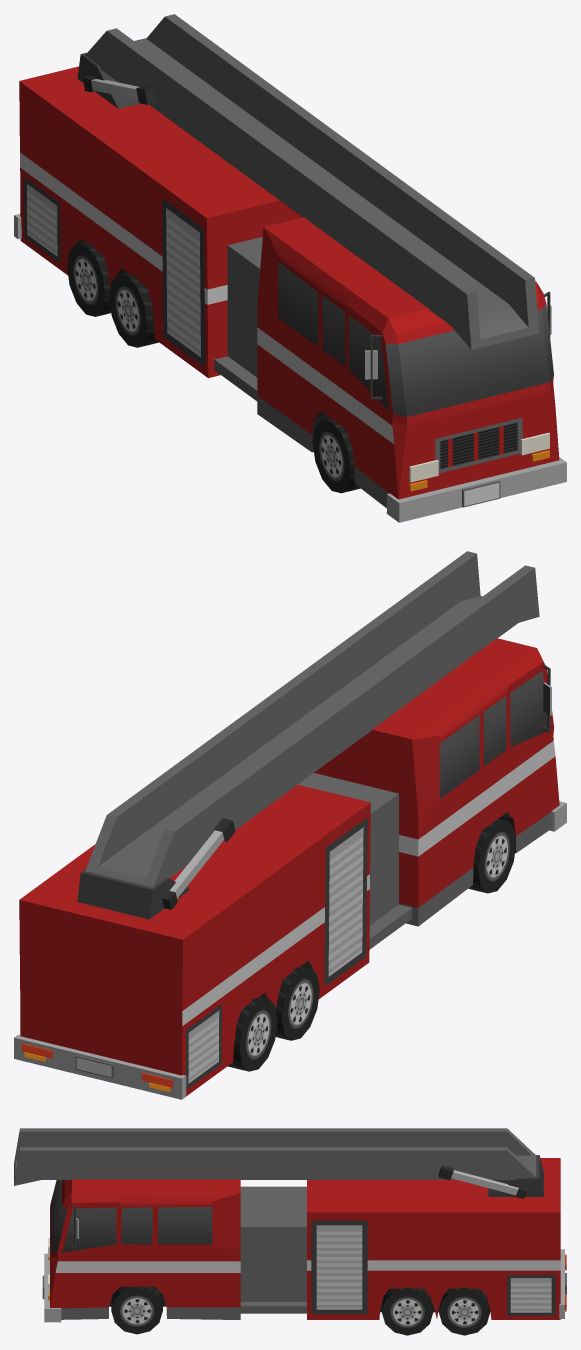
File: FireEngine.fbx
3 views of the same model, one above another, from view 1: azimuth 30°, elevation 25°; view 2: azimuth 150°, elevation 25°; view 3: azimuth 270°, elevation 25° (orthographic). The views are drawn at different scales.
Parts seen in each view (by area): view 1: FireEngine, TireBRX, TireBRY, TireFR; view 2: FireEngine, TireBRY, TireBRX, TireFR; view 3: FireEngine, TireFL, TireBLX, TireBLY.
Part boxes in pixels (bbox=[...]): FireEngine: bbox=[14, 14, 566, 522]; TireBRX: bbox=[109, 272, 158, 347]; TireBRY: bbox=[67, 241, 111, 316]; TireFR: bbox=[312, 417, 360, 493]; FireEngine: bbox=[14, 551, 566, 1099]; TireBRY: bbox=[227, 996, 277, 1071]; TireBRX: bbox=[275, 965, 319, 1040]; TireFR: bbox=[468, 818, 516, 893]; FireEngine: bbox=[14, 1128, 566, 1322]; TireFL: bbox=[111, 1286, 162, 1334]; TireBLX: bbox=[381, 1287, 433, 1335]; TireBLY: bbox=[438, 1287, 490, 1335].
Size of the model in its own units: 241 by 306 by 915.
